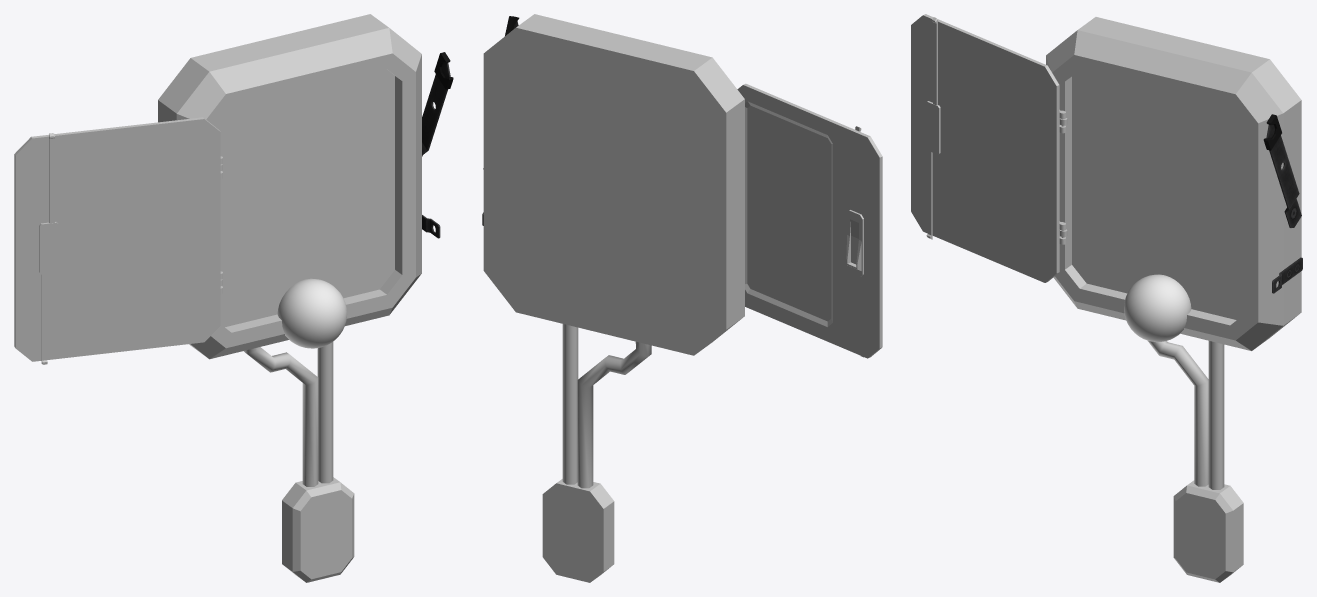
3 views of the same model, side by side, from view 1: azimuth 30°, elevation 25°; view 2: azimuth 150°, elevation 25°; view 3: azimuth 330°, elevation 25° (orthographic). The views are drawn at different scales.
Visible parts, largest first — view 1: Breaker Panel Face LOD, Door, Electrical Box LOD, Paper Labels, Conduit, frame, Latch, Handle LOD; view 2: Electrical Box LOD, Door, Conduit, Latch; view 3: Breaker Panel Face LOD, Electrical Box LOD, Door, Conduit, Paper Labels, frame, Latch, Handle LOD.
Part boxes in pixels (x1,y1,x2,y2): Breaker Panel Face LOD: (216, 69, 394, 326); Door: (14, 117, 220, 361); Electrical Box LOD: (158, 14, 421, 359); Paper Labels: (72, 141, 195, 331); Conduit: (243, 342, 354, 582); frame: (277, 278, 347, 348); Latch: (39, 133, 58, 364); Handle LOD: (422, 52, 453, 156); Electrical Box LOD: (483, 14, 744, 355); Door: (737, 83, 882, 358); Conduit: (542, 324, 651, 582); Latch: (846, 126, 863, 357); Breaker Panel Face LOD: (1072, 70, 1244, 319); Electrical Box LOD: (1046, 17, 1301, 350); Door: (911, 14, 1059, 282); Conduit: (1148, 341, 1243, 582); Paper Labels: (951, 48, 1038, 255); frame: (1124, 274, 1191, 342); Latch: (925, 17, 940, 239); Handle LOD: (1263, 114, 1301, 227).
Size of the model in its own units: 29.31 by 37.7 by 5.83.
